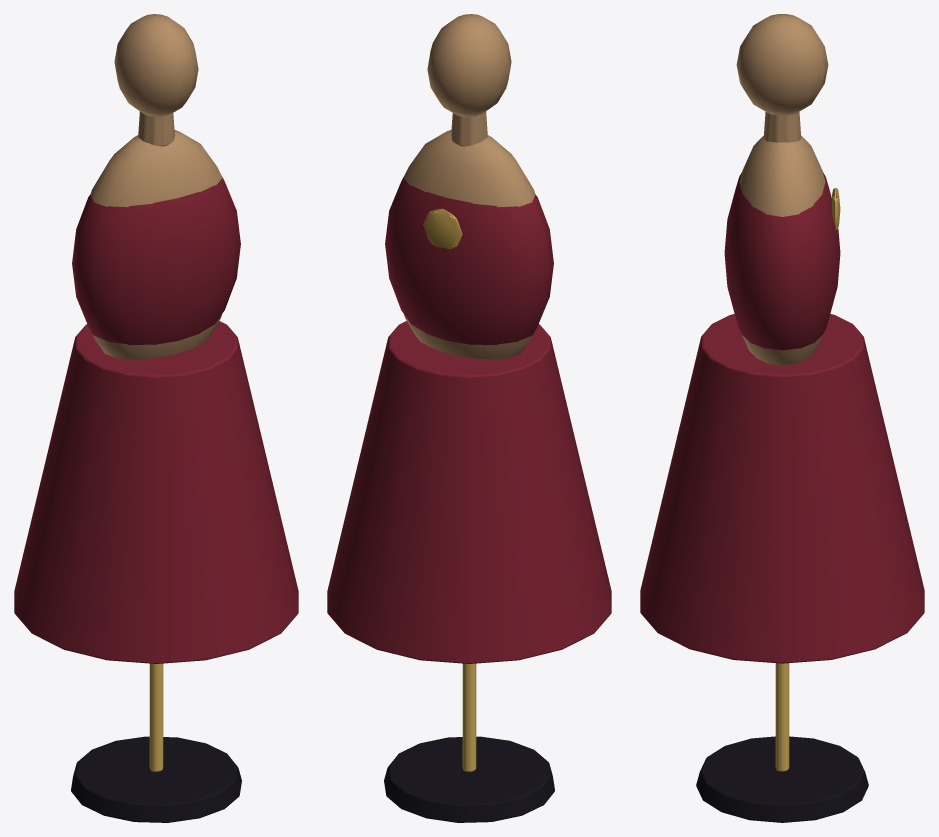
Rendered from SM_PRP_ManequimA.fbx.
3 renders of one model, left to right at view 1: azimuth 30°, elevation 25°; view 2: azimuth 150°, elevation 25°; view 3: azimuth 270°, elevation 25°, orthographic.
Visible parts, largest first — view 1: SM_PRP_ManequimA; view 2: SM_PRP_ManequimA; view 3: SM_PRP_ManequimA.
Part boxes in pixels (box(x1,y1,x2,y2)): SM_PRP_ManequimA: box(14, 14, 298, 822); SM_PRP_ManequimA: box(327, 14, 611, 822); SM_PRP_ManequimA: box(640, 14, 924, 822).
Size of the model in its own units: 0.5979 by 1.76 by 0.5888.
